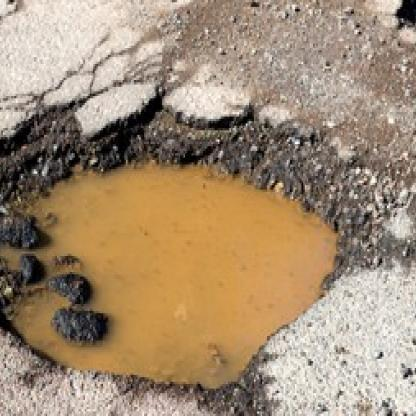pothole: (0, 105, 354, 396)
